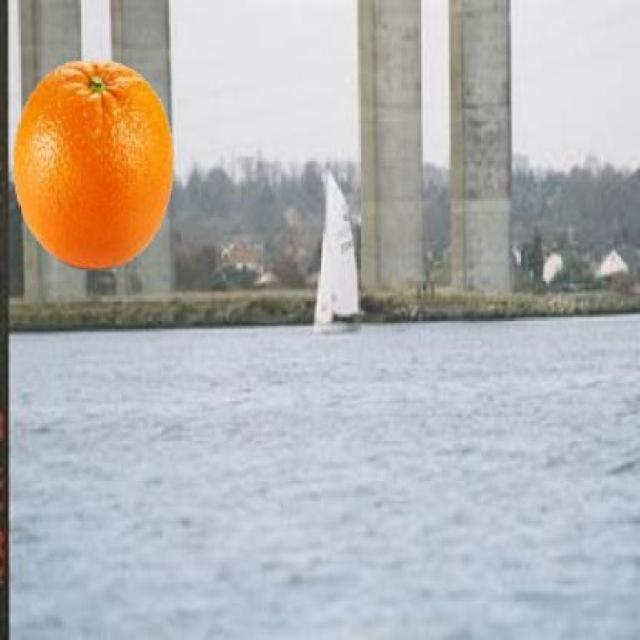Orange: (11, 57, 174, 271)
